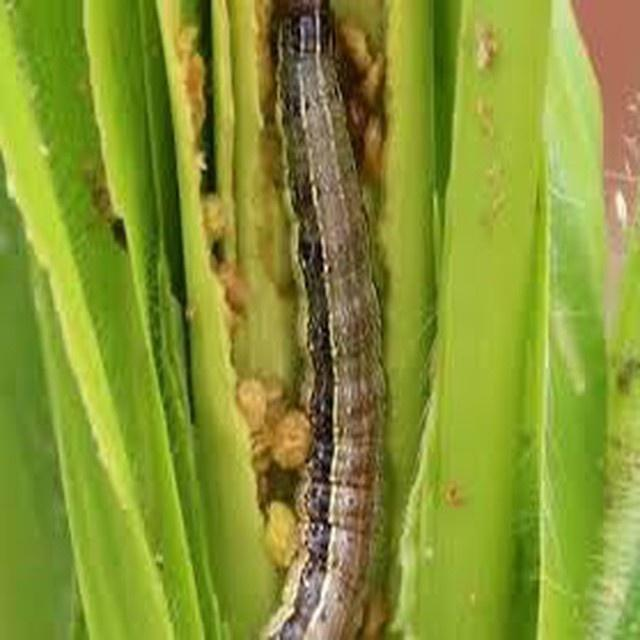Plaga: (273, 8, 390, 640)
